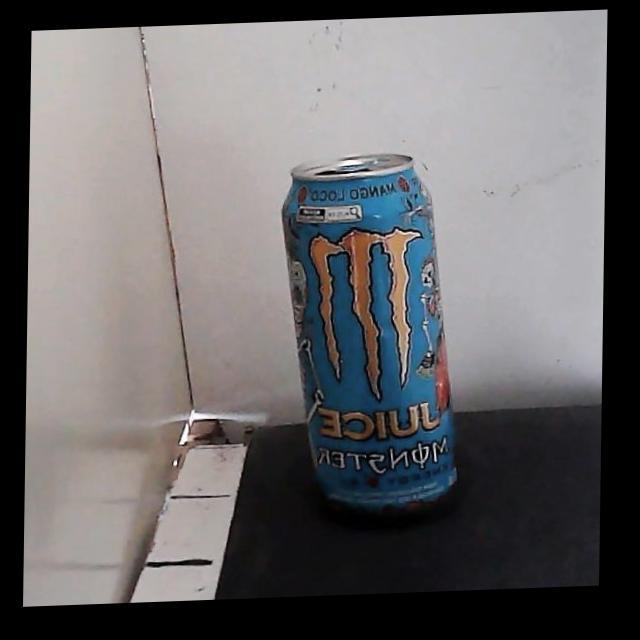metal: (282, 153, 457, 518)
